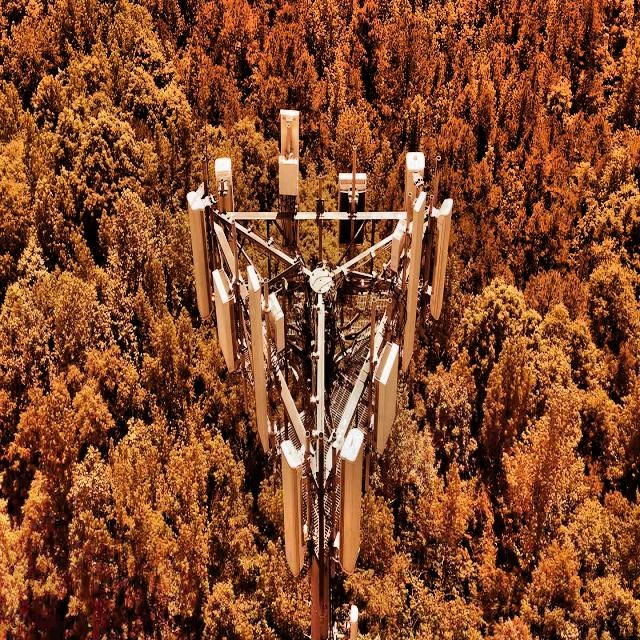antenna: (401, 264, 625, 580), (247, 265, 268, 451), (339, 428, 364, 573), (187, 184, 210, 318), (281, 440, 303, 575), (278, 109, 298, 248), (430, 198, 452, 319)
